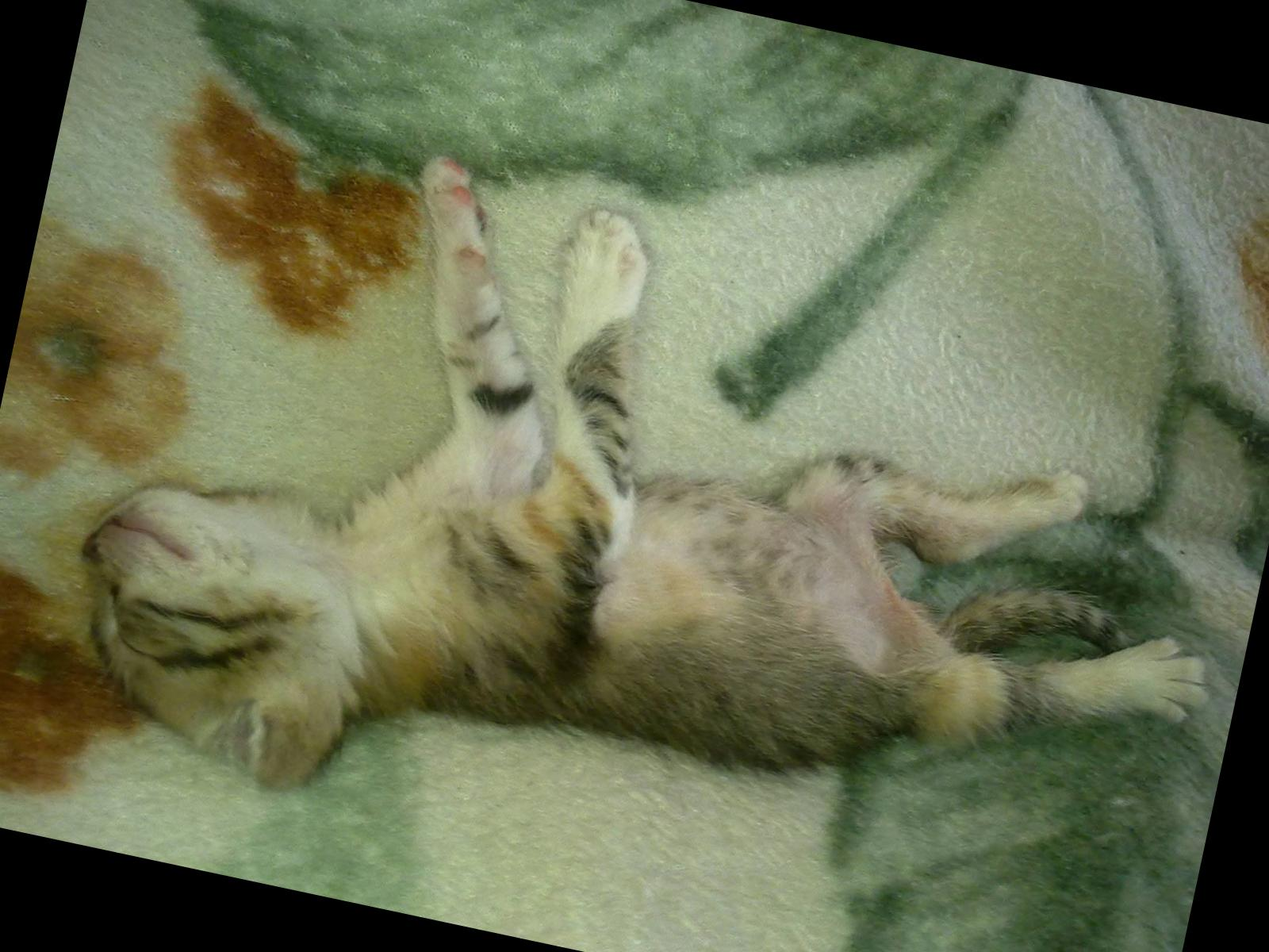macka: (39, 92, 1269, 952)
